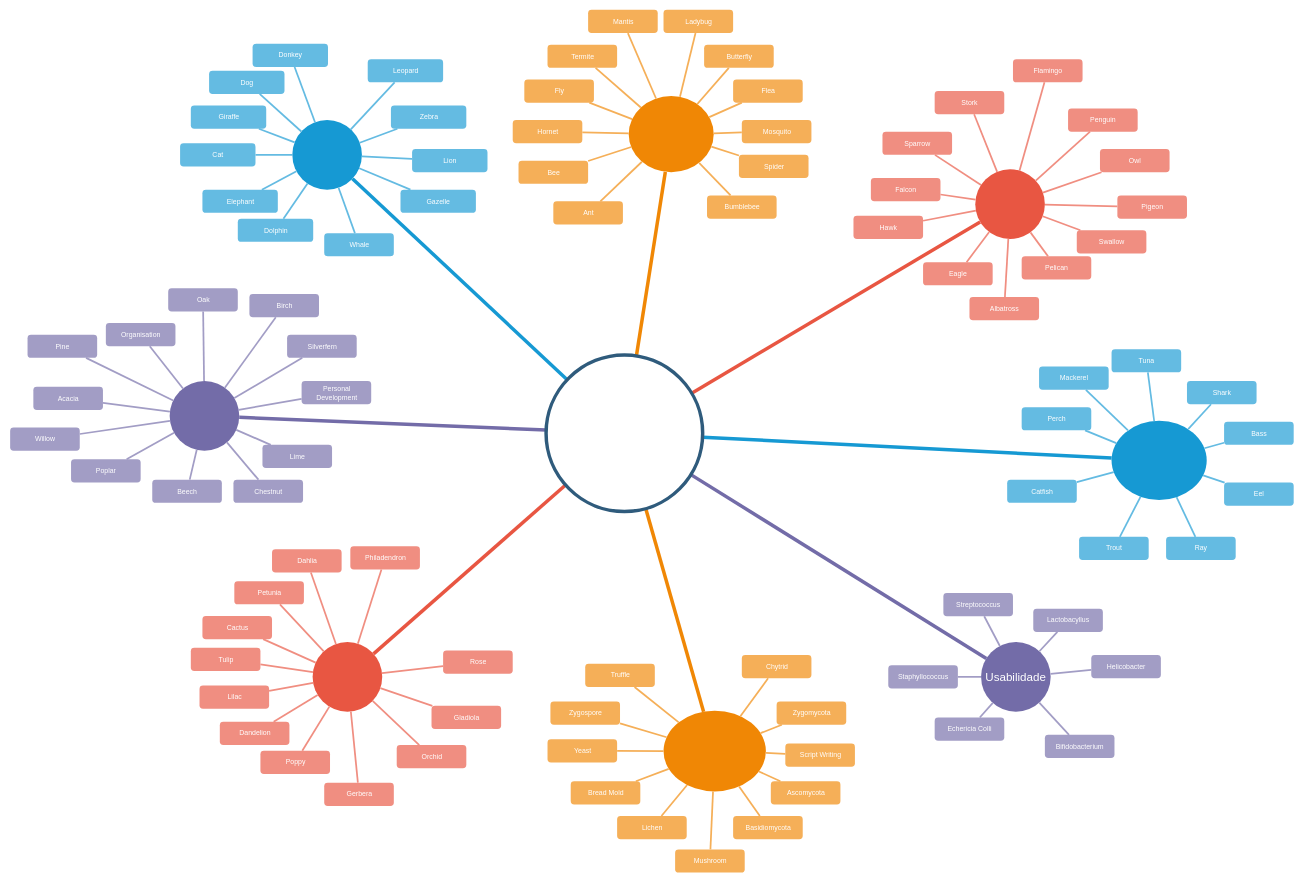
Image size: 1303x883. Some labels were removed from this diagram. The shapes that lost their labels are listed below. From the top down, each one's centre as x and y in pixels, then its label:
At pixel 327 154: "Desempenho".
At pixel 670 134: "Disponibilidade".
At pixel 1010 204: "Segurança".
At pixel 204 415: "Legal".
At pixel 624 433: "Não Funcionais".
At pixel 1158 460: "Interoperabilidade".
At pixel 347 676: "Padrão".
At pixel 714 750: "Compatibilidade".
